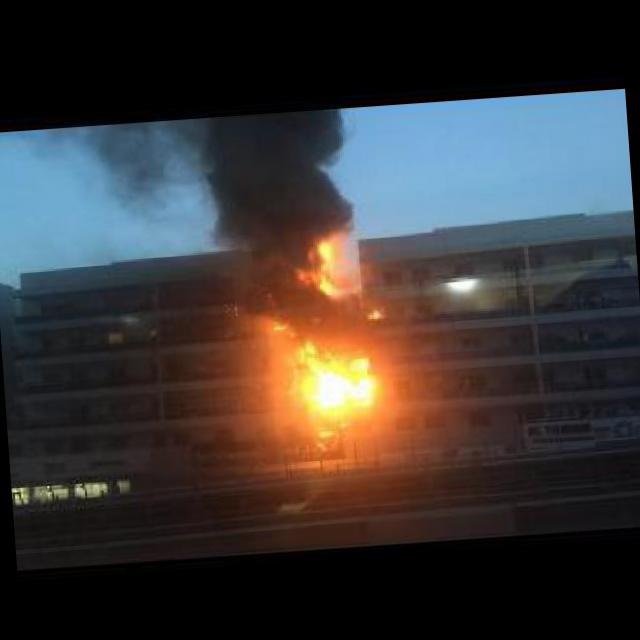fire: (284, 339, 382, 438), (306, 235, 334, 292), (366, 305, 386, 317), (274, 318, 286, 329)
smoke: (51, 105, 369, 252)
